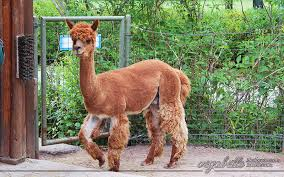alpaca: (64, 18, 191, 171)
